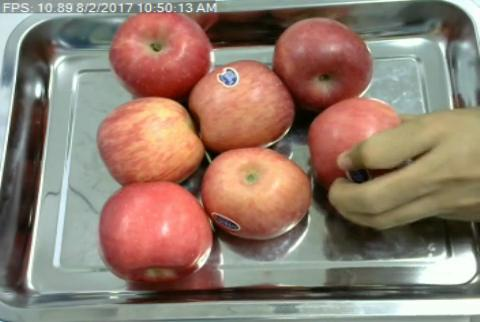apple: (98, 181, 212, 282), (201, 146, 311, 238), (192, 61, 295, 150), (97, 98, 203, 182), (108, 12, 211, 97), (274, 17, 374, 101), (307, 97, 407, 168)
